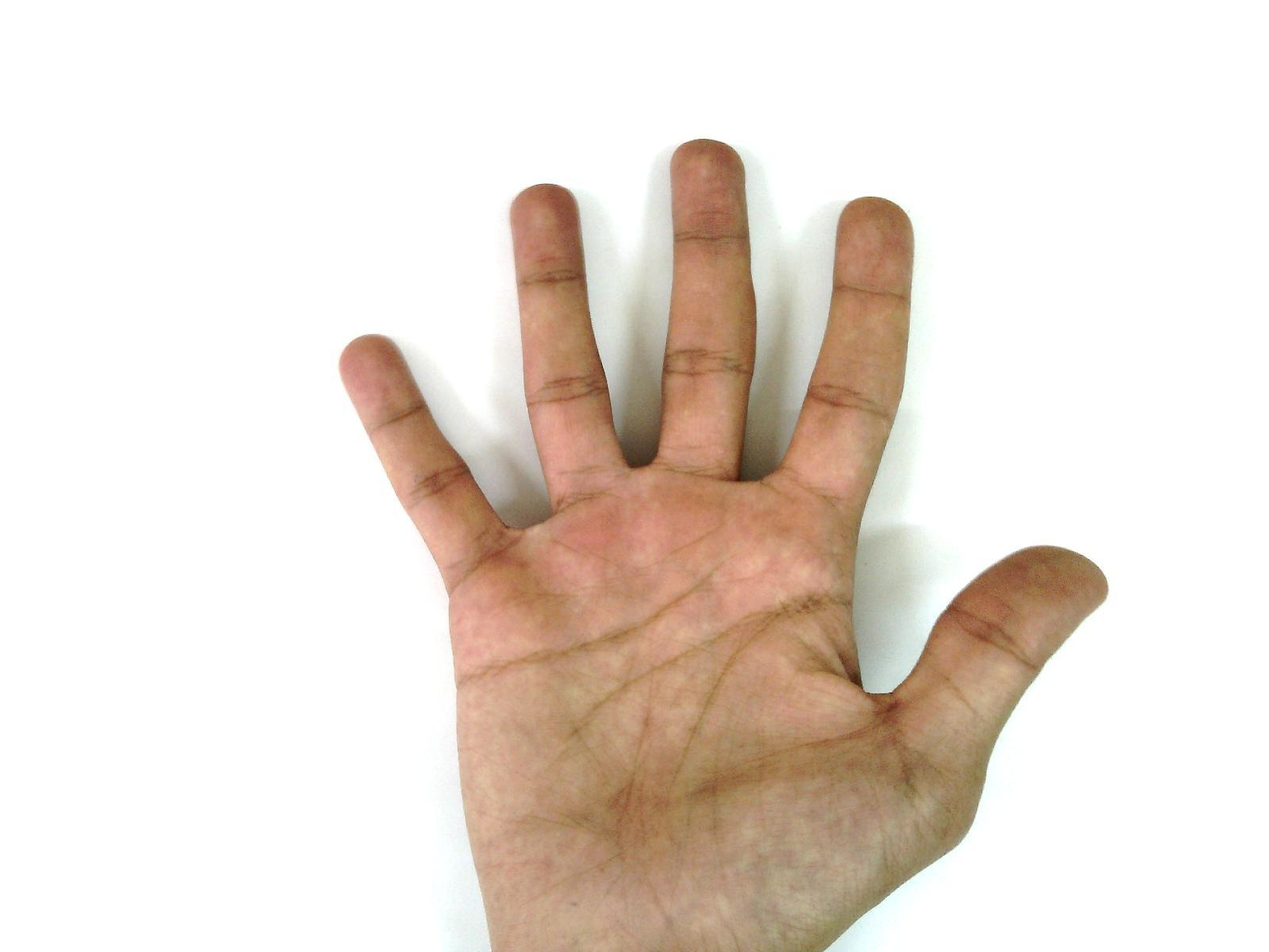open_palm: (335, 137, 1110, 951)
